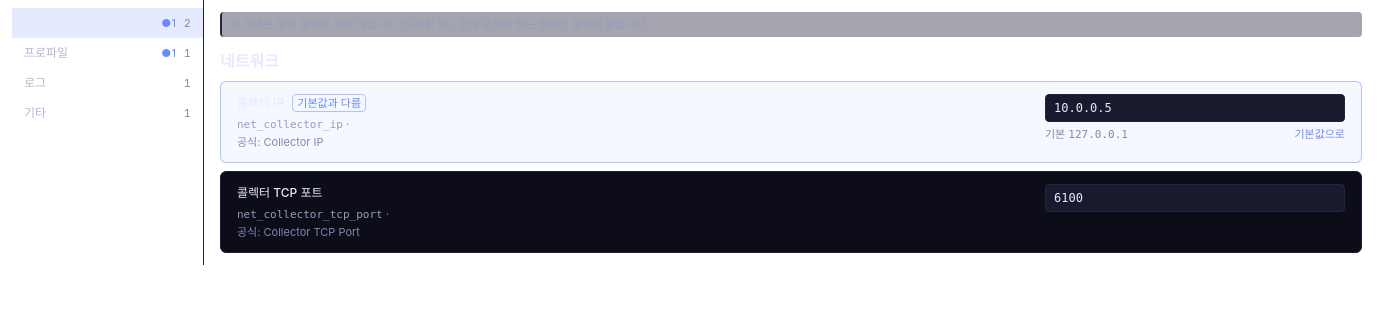
Test: SettingsForm — 고치기 › 도로 원래 값으로 돌리면 바뀜이 아니다
Replace the text in the field named "net_collector_ip" with "10.0.0.9" at (1195, 108), box [1045,94,1345,122]
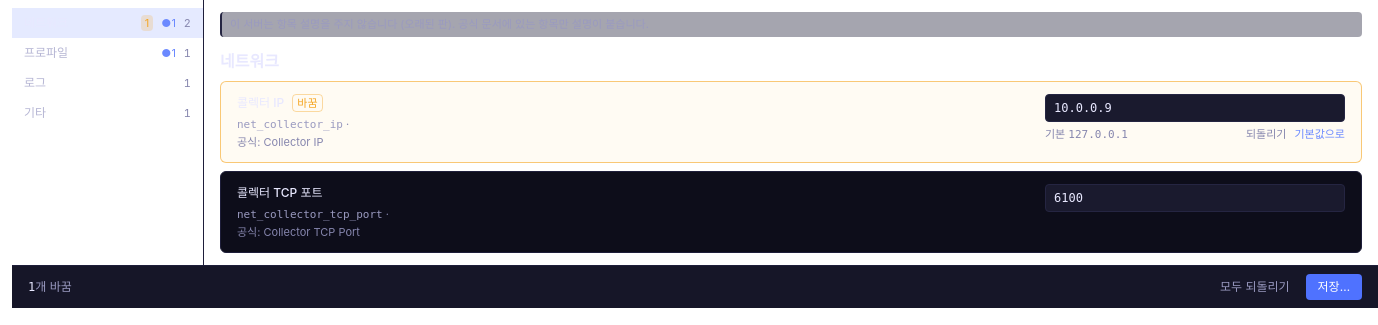
Replace the text in the field named "net_collector_ip" with "10.0.0.5" at (1195, 108), box [1045,94,1345,122]
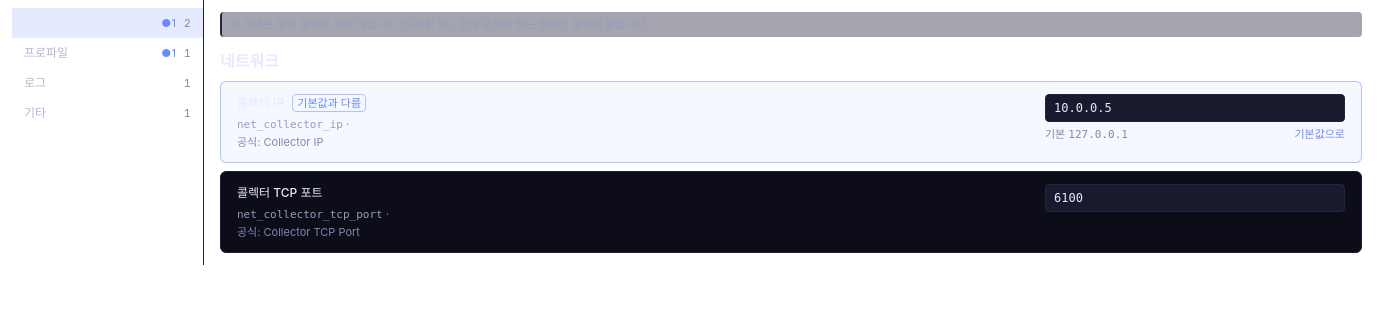
Result: the button "저장…" is gone
